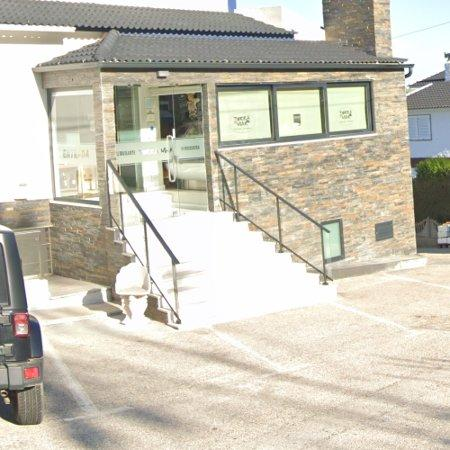stairs: (136, 193, 336, 329), (148, 229, 173, 303), (125, 195, 144, 261)
